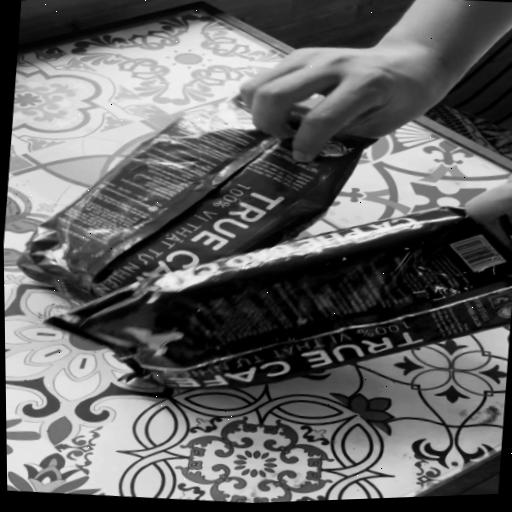cafe_hat: (47, 207, 512, 390)
cafe_xay: (18, 97, 371, 304)
